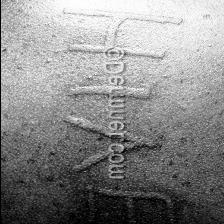Toxin: (120, 7, 184, 224), (58, 4, 108, 224)
